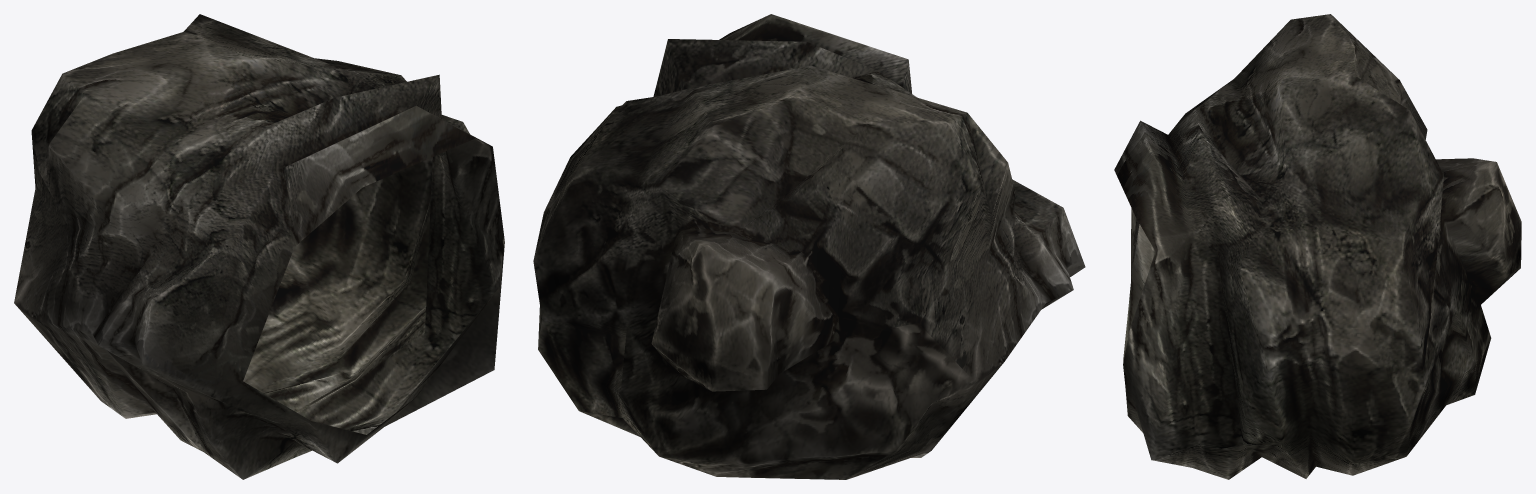
The model's file is AEP_Rock_03_Part_01.fbx.
3 views of the same model, side by side, from view 1: azimuth 30°, elevation 25°; view 2: azimuth 150°, elevation 25°; view 3: azimuth 270°, elevation 25° (orthographic). The views are drawn at different scales.
Parts seen in each view (by area): view 1: AEP_Rock_03_Part_01; view 2: AEP_Rock_03_Part_01; view 3: AEP_Rock_03_Part_01.
Boxes of the visible parts, x1,y1,x2,y2 form: AEP_Rock_03_Part_01: (14,14,504,479); AEP_Rock_03_Part_01: (533,14,1085,479); AEP_Rock_03_Part_01: (1114,14,1521,479).
Bounding box in the file's own units: 5.76 × 4.72 × 4.89.
